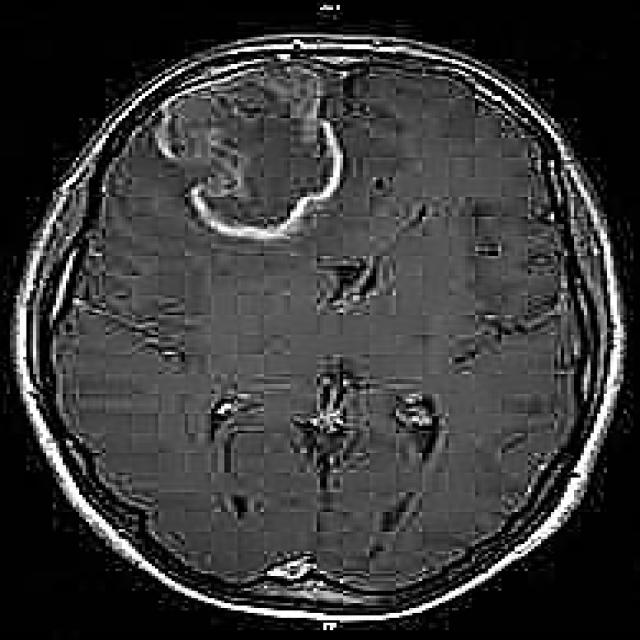Tumor-Cell: (148, 65, 346, 226)
